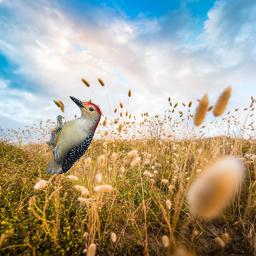Woodpecker: (46, 96, 101, 174)
